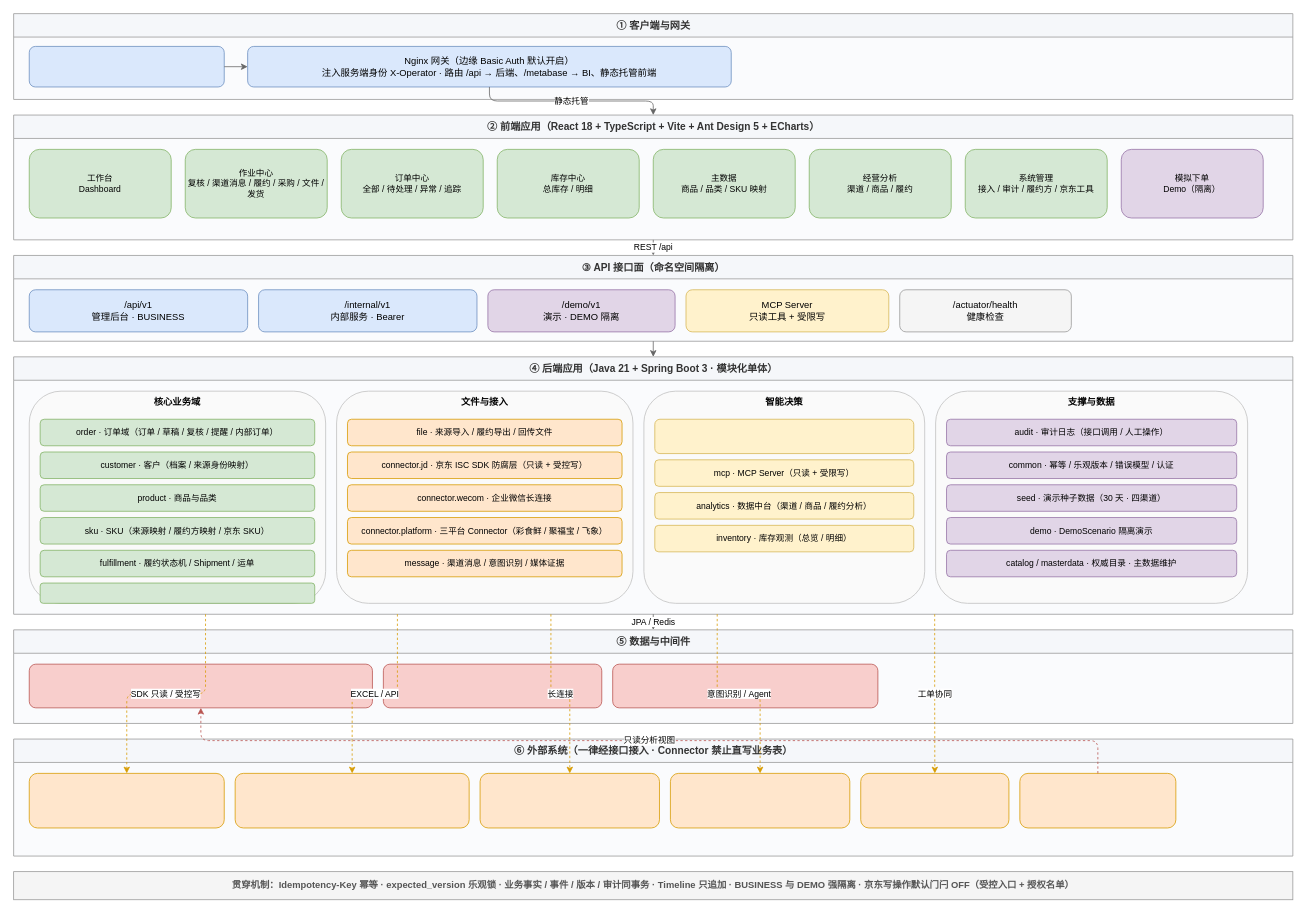
The diagram is 1307 pixels wide and 913 high, and some of its shapes have lost their labels. Each missing label, with the centre of its shape:
"agent · LangChain4j 运行时 / 工具绑定 / 数据查询 Agent" goes at pixel 784 436.
"LLM 模型 OpenAI 兼容协议（意图识别 / Agent）" goes at pixel 760 800.
"Metabase BI 只读分析视图" goes at pixel 1097 800.
"PostgreSQL 16 app 业务 schema（53 表）+ analytics 分析视图 · Flyway V1–V17" goes at pixel 200 685.
"procurement · 采购工单与回执" goes at pixel 177 592.
"Redis 7 幂等 / 缓存（非权威）" goes at pixel 492 685.
"三平台 API 彩食鲜 / 聚福宝 / 飞象（EXCEL 模式，API 待接）" goes at pixel 351 800.
"业务人员（浏览器） 运营 / 仓储 / 采购 / 财务" goes at pixel 126 66.
"京东 ISC SDK 只读查询 + 受控写 addSoOrder（写门闩 OFF）" goes at pixel 126 800.
"企业微信 WebSocket 长连接" goes at pixel 569 800.
"文件存储 内容寻址 · 持久化卷（可换 MinIO/S3）" goes at pixel 745 685.
"采购部门 跨部门协同（工单 / 回执）" goes at pixel 934 800.
